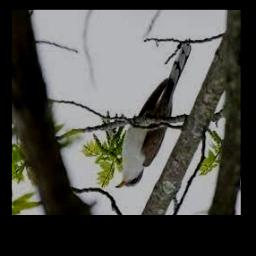Cuckoo: (114, 43, 191, 189)
